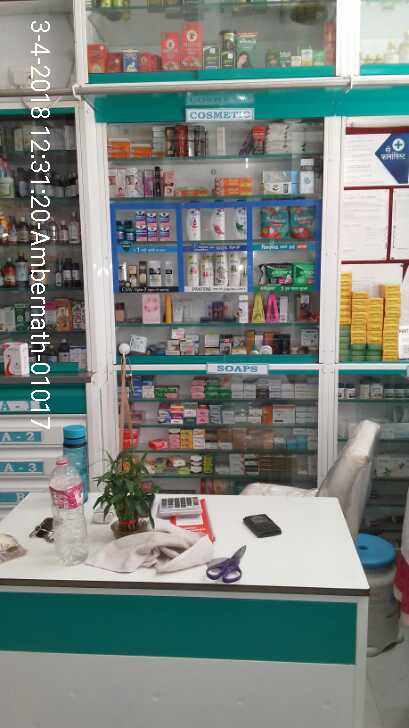vicks: (114, 209, 173, 245)
